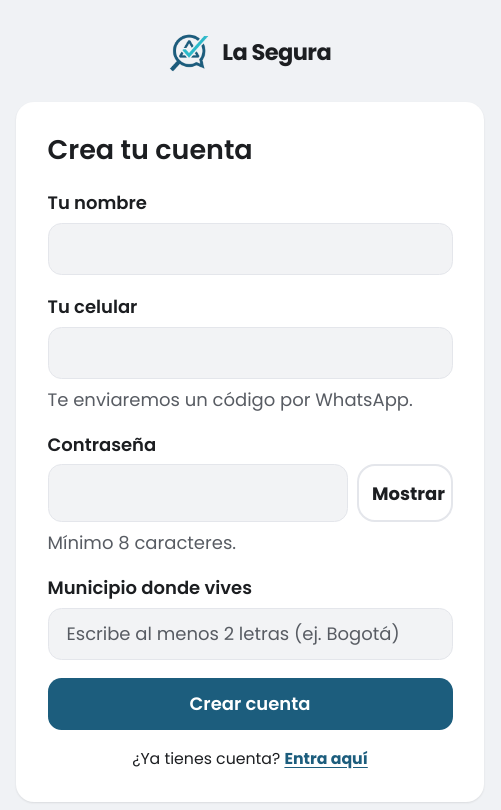
Test: Registro › exige localidad solo en Bogotá
Type "Ana" into the field labelled "Tu nombre" at (250, 249), box [48,223,452,275]
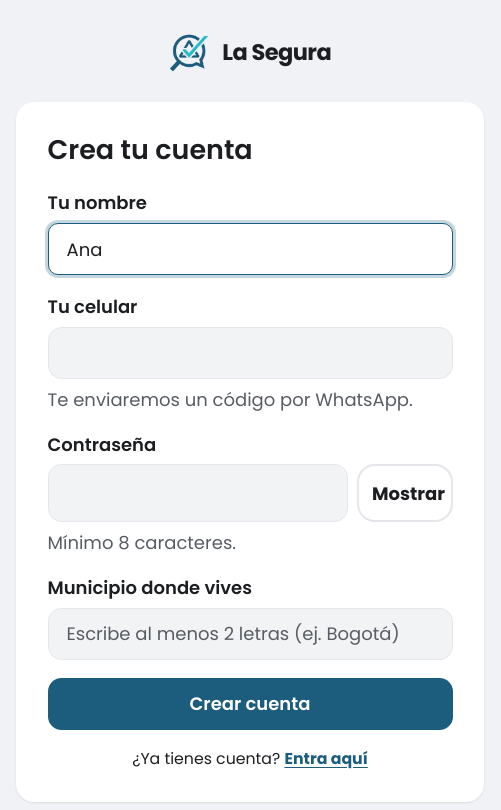
Type "3001234567" into the field labelled "Tu celular" at (250, 353), box [48,327,452,379]
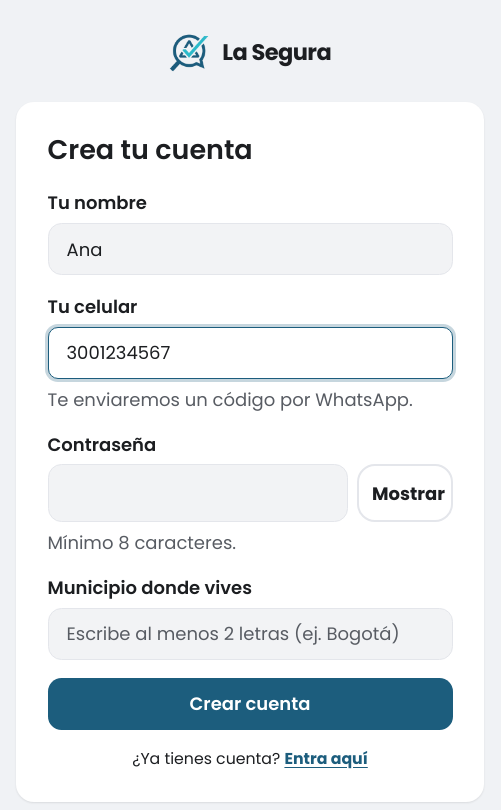
Type "clave12345" into the password field labelled "Contraseña" at (198, 493), box [48,464,348,522]
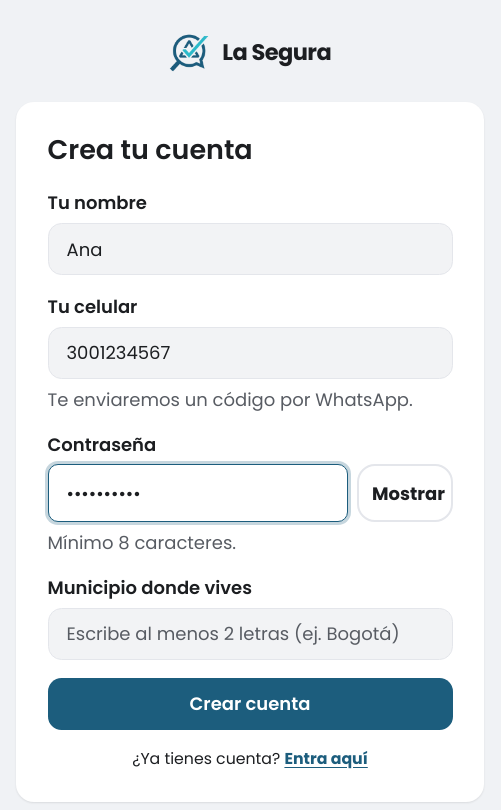
Type "bog" into the dropdown at (250, 634), box [48,608,452,660]
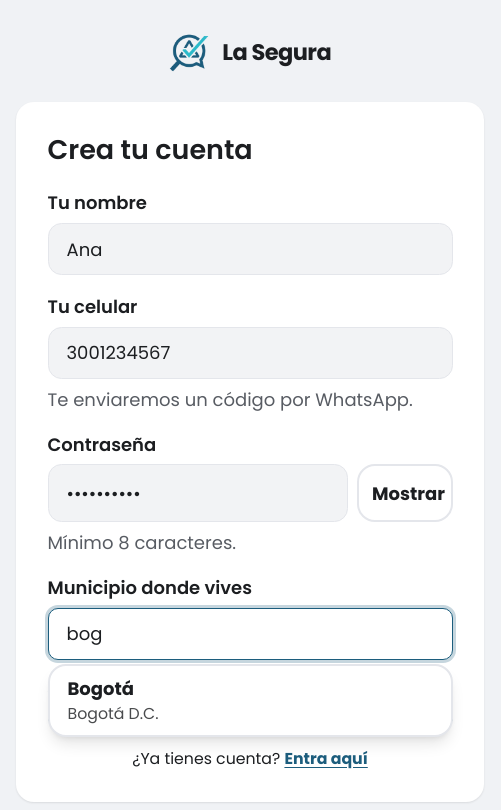
Click the option "Bogotá Bogotá D.C." at (113, 701), box [68,676,158,725]
(page scrolled)
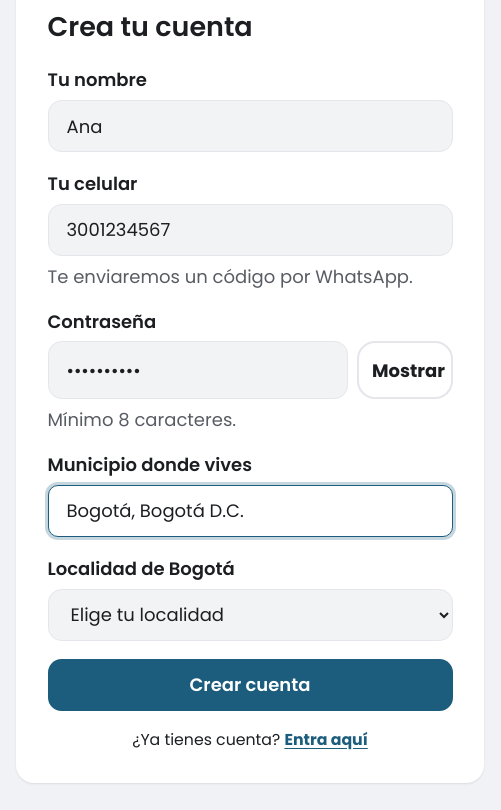
Click the button "Crear cuenta" at (250, 684), box [48,658,452,710]
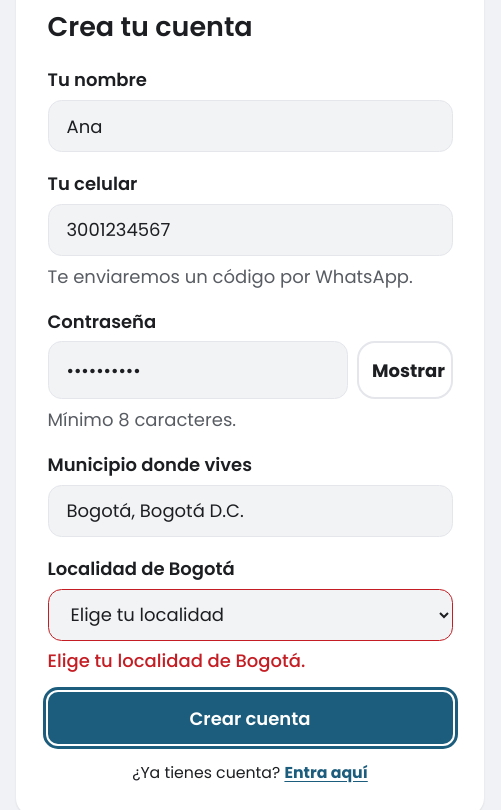
Check: the text "Elige tu localidad de Bogotá." is shown, box [48,648,305,673]
